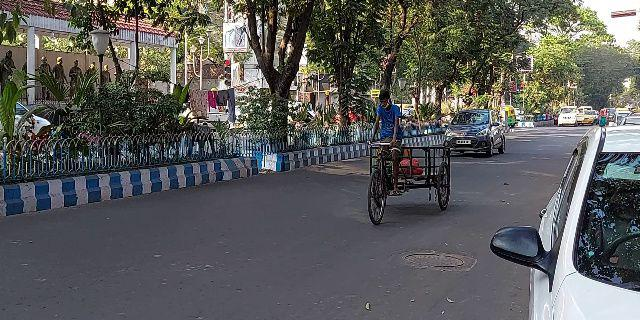Car: (485, 121, 640, 320), (442, 109, 508, 161)
Van: (358, 84, 454, 235)
